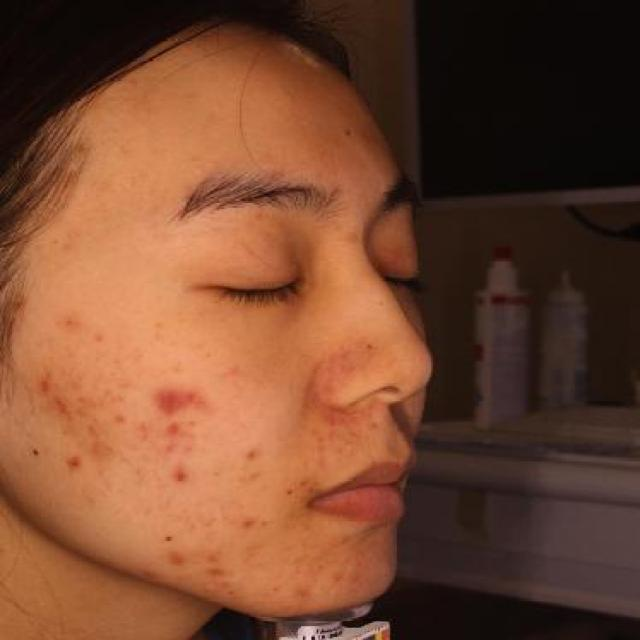dark spot: (149, 383, 219, 425), (154, 424, 200, 458), (55, 446, 94, 479), (166, 461, 198, 497), (162, 540, 192, 574), (28, 365, 58, 397), (50, 390, 75, 428)
